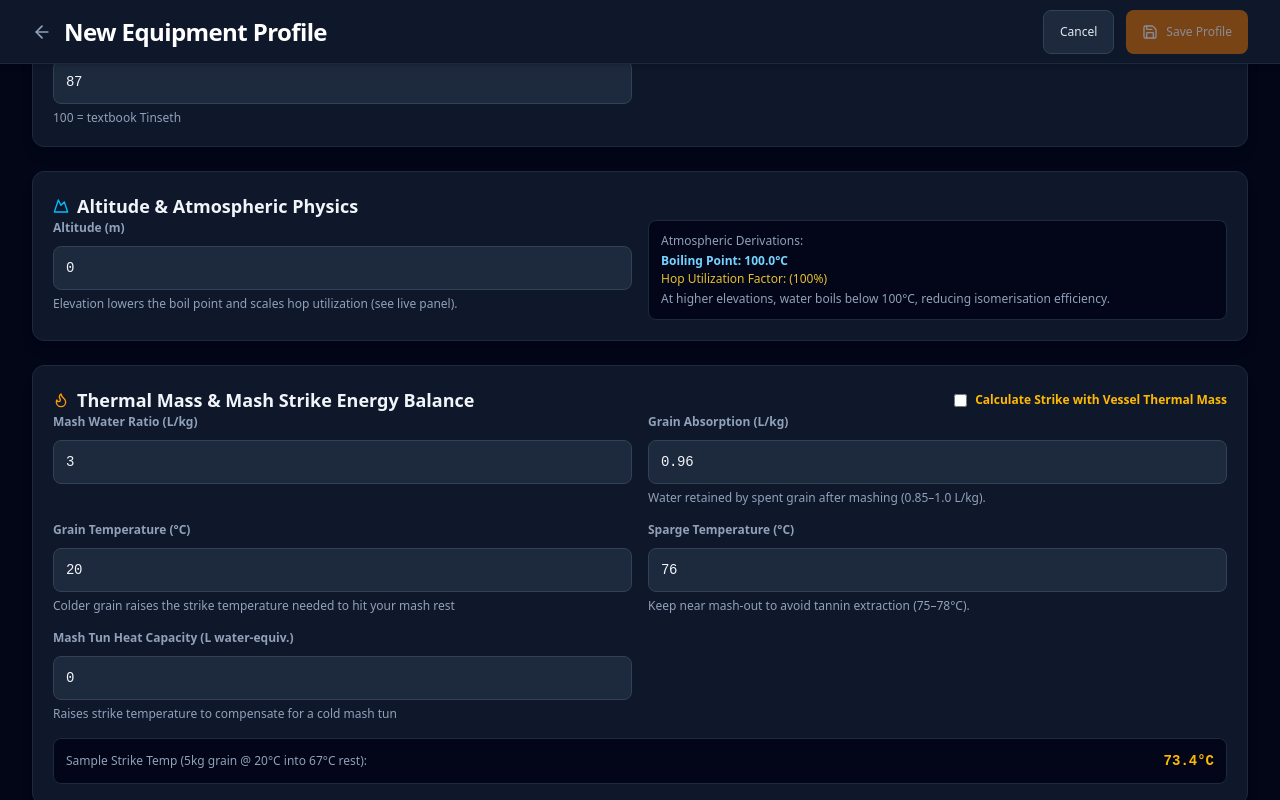
Test case: EquipmentForm (Physics & Loss Controls — AC-5..AC-9) › AC-6: renders Thermal Mass toggle, revealing vessel weight and heat capacity inputs when enabled
(page scrolled)
Click the checkbox with test id "equipment-field-calcStrikeWithThermalMass".
click(961, 400)  # box [954,394,967,406]
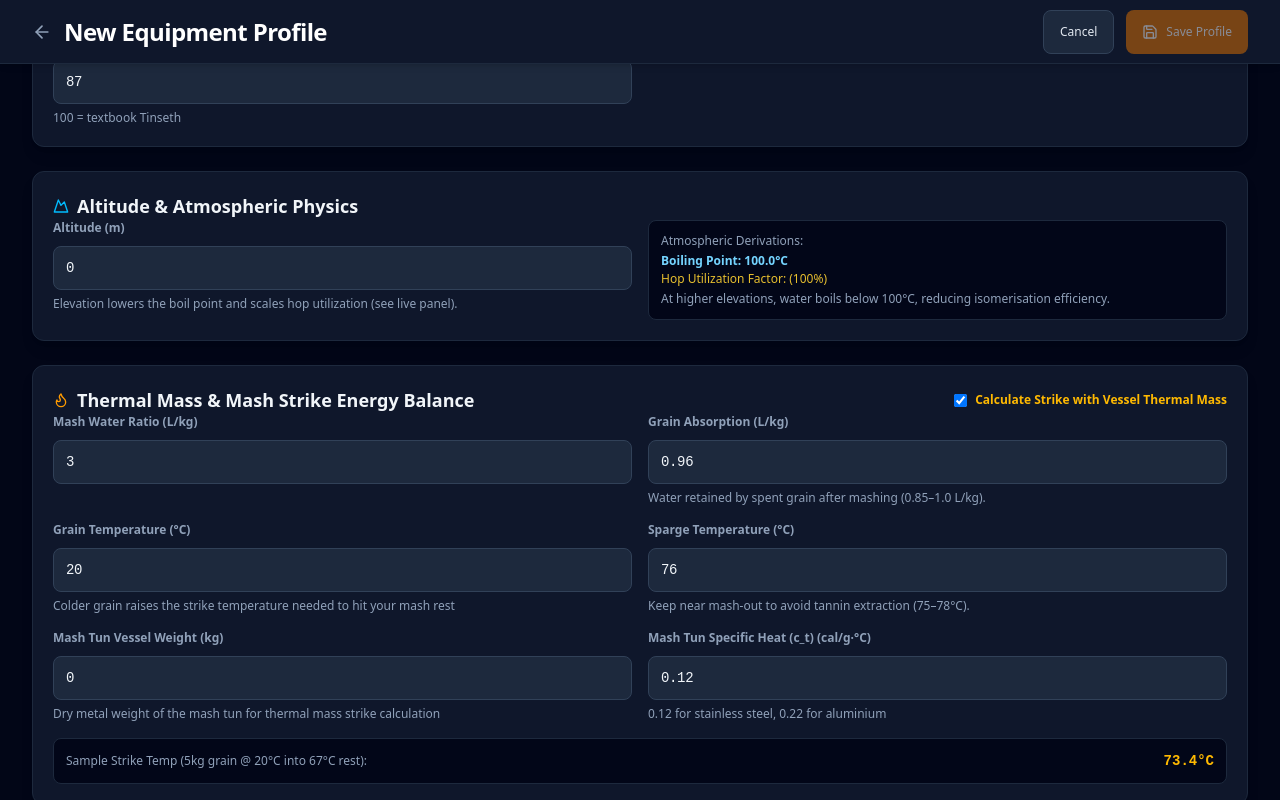
Expected: the number field with test id "equipment-field-mashTunWeightKg" is shown, [53,656,632,700]
Result: the checkbox with test id "equipment-field-calcStrikeWithThermalMass" is checked at [954,394,967,406]
Result: the number field with test id "equipment-field-mashTunHeatCapacity" is shown at [648,656,1227,700]
